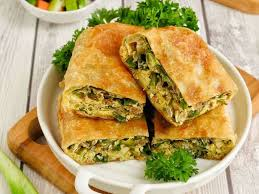Martabak telur: (119, 22, 238, 120), (66, 21, 140, 127), (53, 122, 152, 165), (151, 124, 245, 159)
